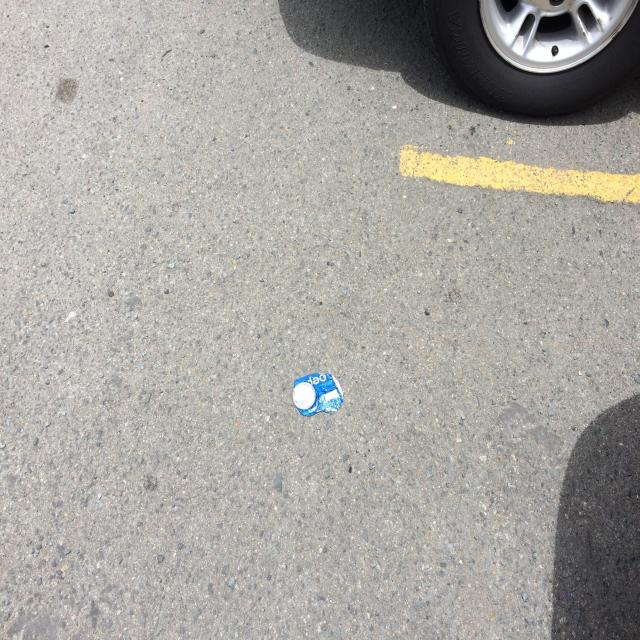litter: (293, 373, 344, 417)
